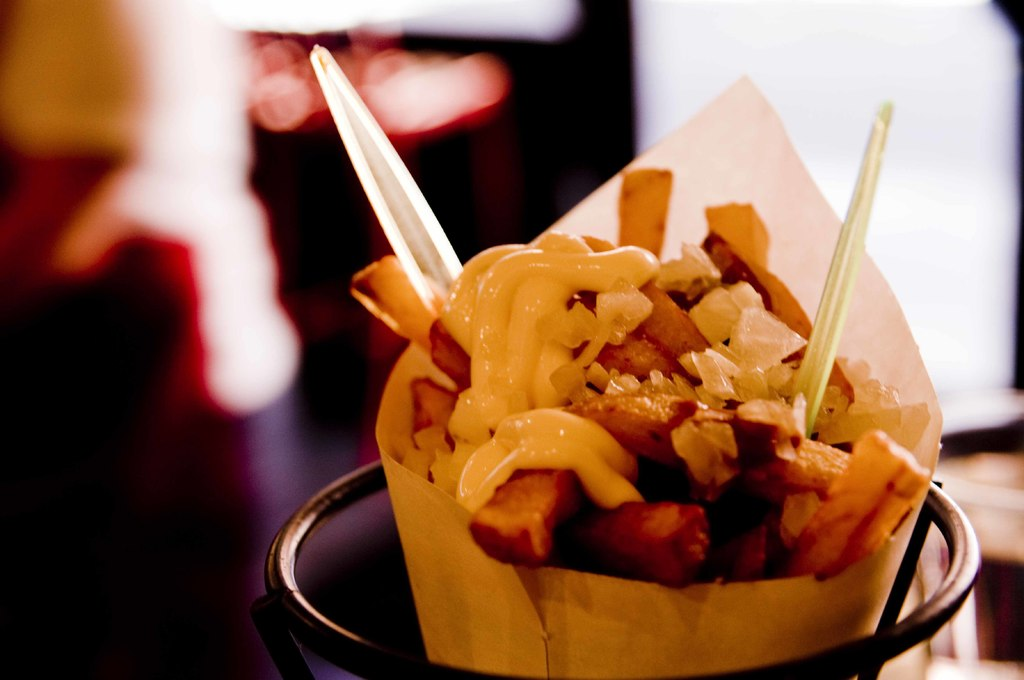French fries: (421, 262, 904, 608)
